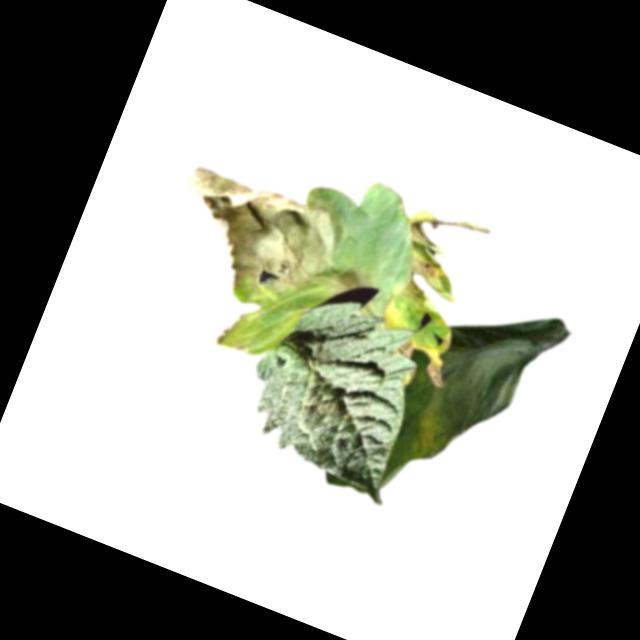Late_blight: (360, 271, 575, 536), (160, 156, 348, 318), (385, 197, 491, 323), (420, 327, 463, 389), (214, 304, 264, 357), (327, 260, 380, 307), (397, 334, 419, 358)
healthy: (225, 276, 449, 506)
